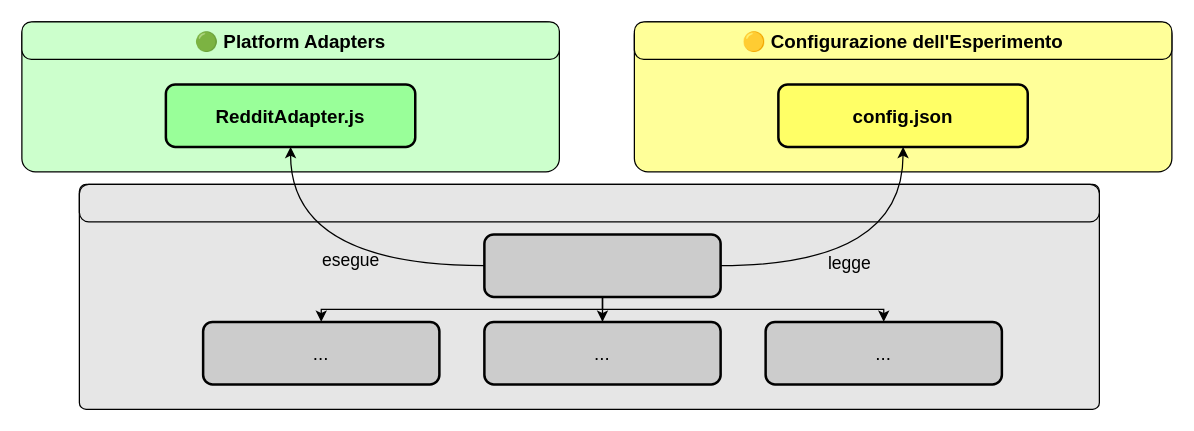
The diagram is 1194 pixels wide and 431 high, and some of its shapes have lost their labels. Here are the shapes that lost their labels. From the top down, the centre of each, then its label:
At pixel 588 202: "🔒 iBEARer Extension".
At pixel 601 265: "CoreEngine.js".
